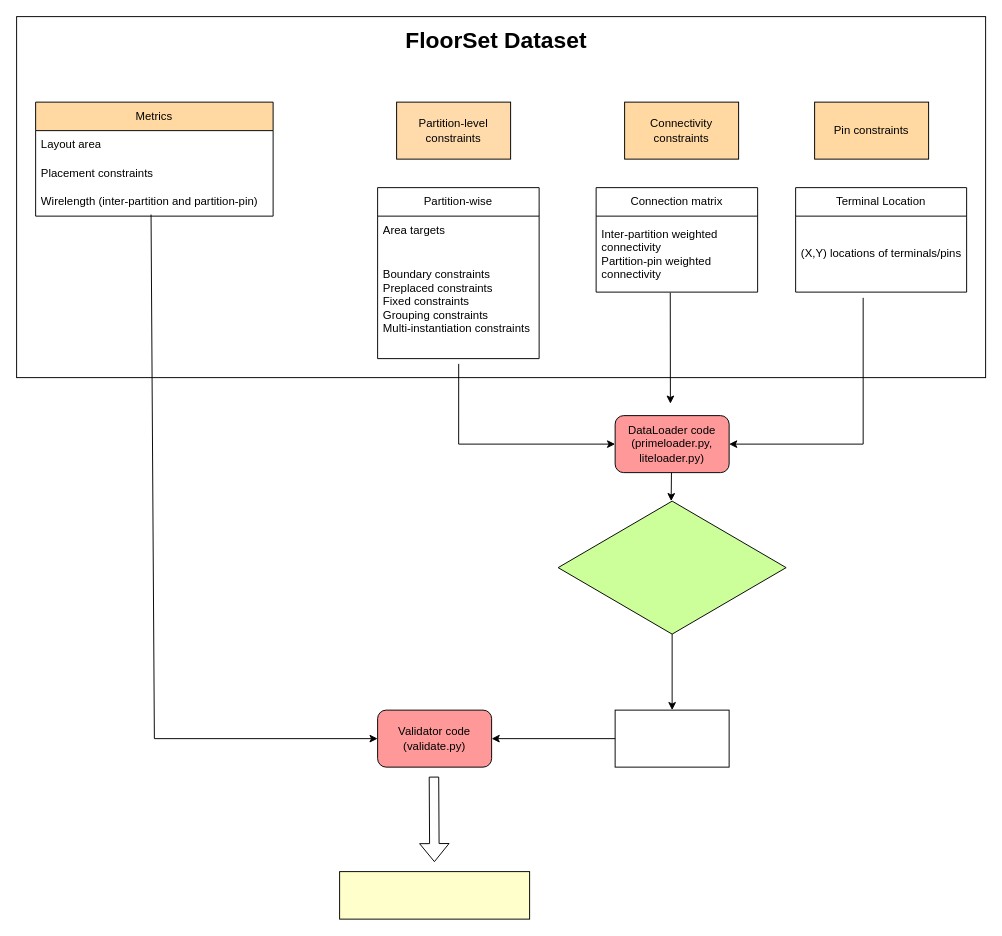
Some shapes in this 1002 by 936 pixel diagram are drawn without their labels. Each missing label, with the centre of its shape:
Black-box Floorplanning Algorithm: (x=671, y=567)
Partition-shapes and locations: (x=671, y=738)
Violations and Goodness measure: (x=434, y=895)
